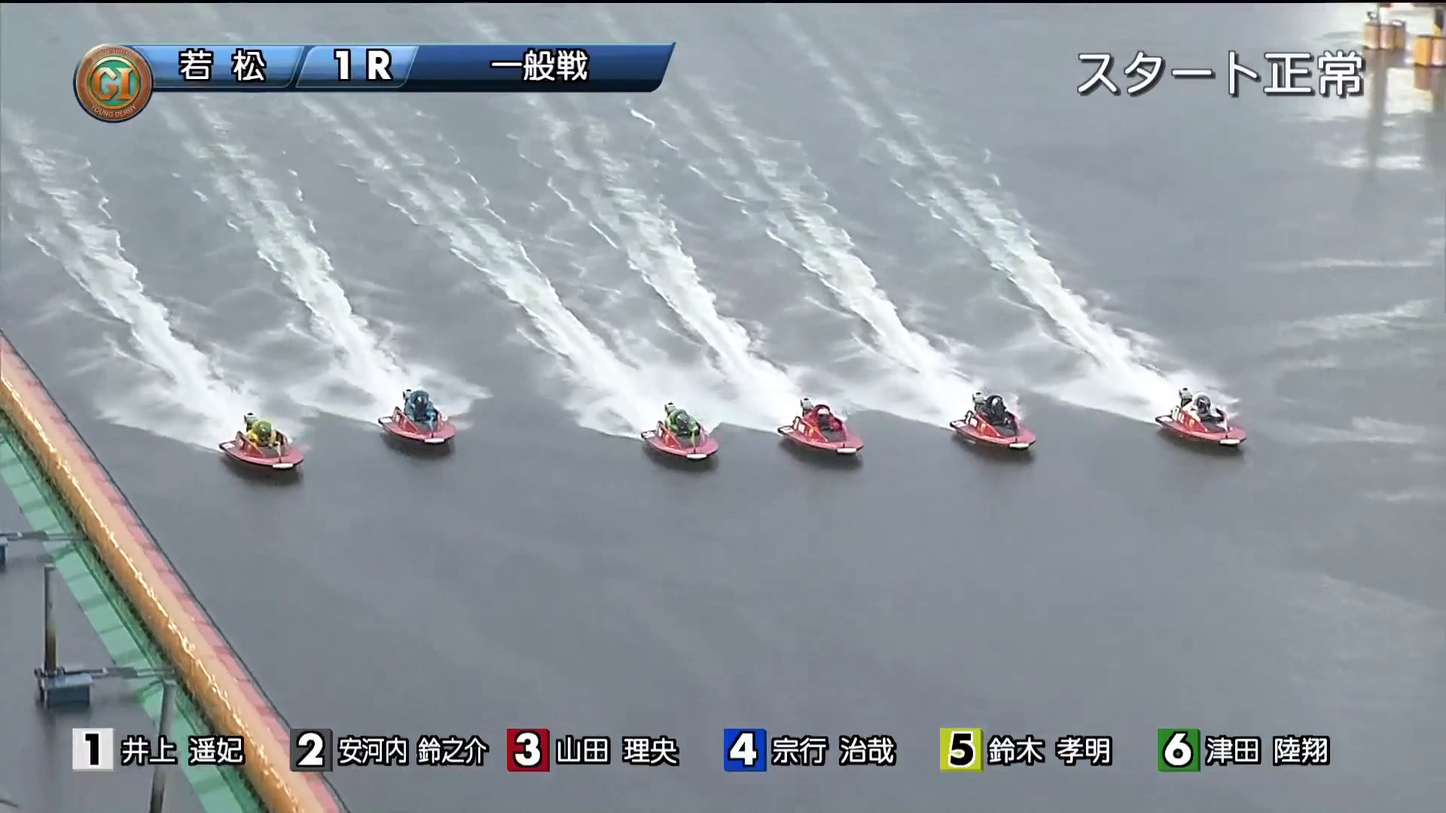１号艇: (1171, 404, 1255, 445)
２号艇: (945, 404, 1034, 442)
３号艇: (785, 421, 876, 462)
４号艇: (637, 412, 742, 455)
５号艇: (368, 388, 489, 443)
６号艇: (261, 423, 361, 480)
